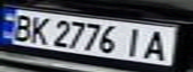2: (48, 17, 72, 48)
6: (96, 22, 124, 55)
7: (81, 20, 103, 53), (66, 19, 87, 51)
A: (139, 28, 175, 62)
B: (6, 11, 36, 43)
I: (121, 25, 151, 58)
K: (24, 15, 54, 46)
